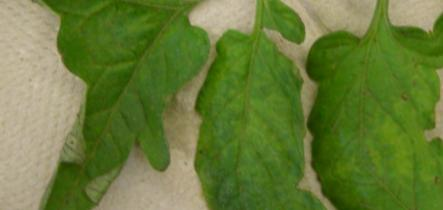Tomato leaf mosaic virus: (0, 3, 264, 210), (256, 0, 443, 183), (161, 21, 335, 210)
